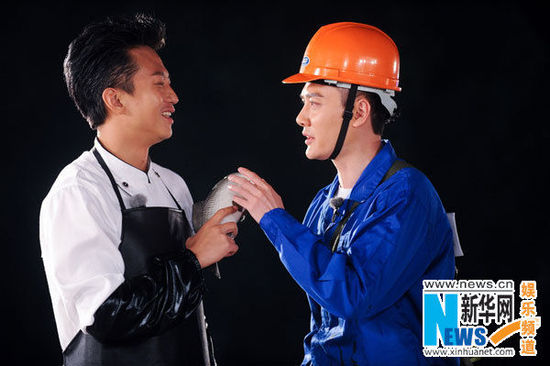helmet: (300, 22, 403, 97)
